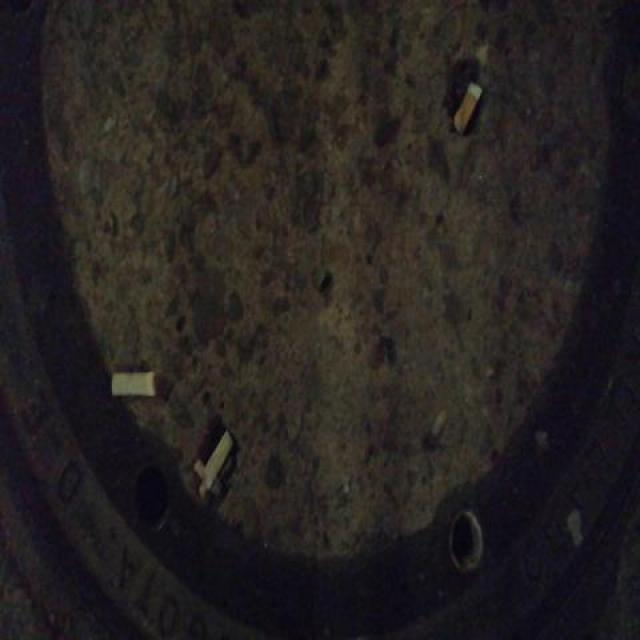non-organic waste: (202, 426, 235, 494), (450, 75, 485, 137), (107, 366, 158, 402)
